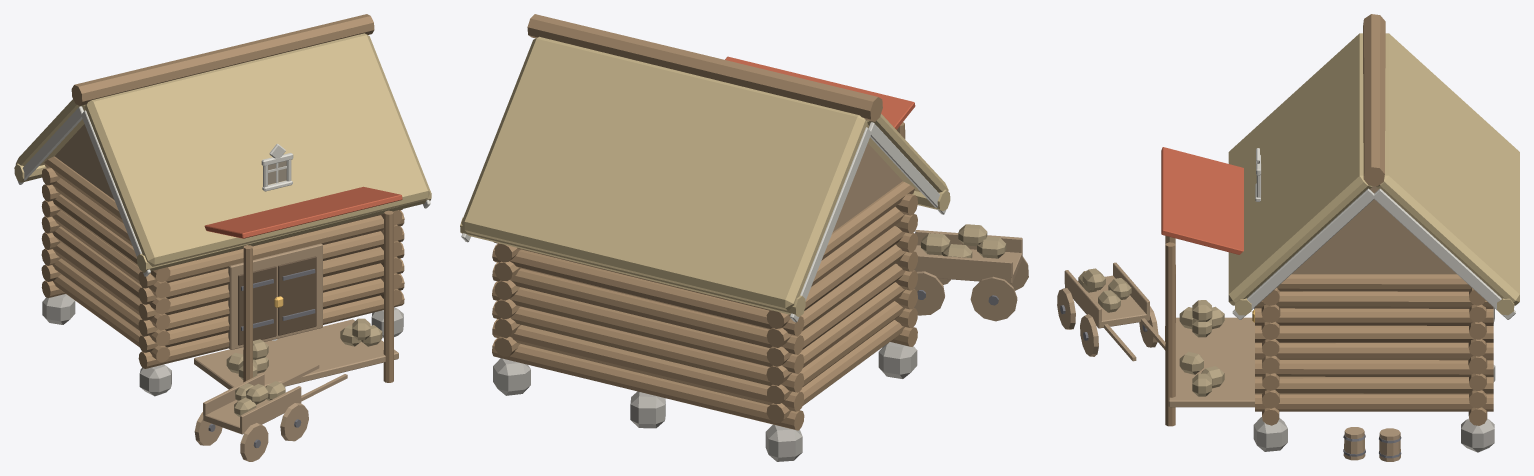
File: bld_ambar.glb
The picture shows the model from 3 angles, left to right: view 1: azimuth 30°, elevation 25°; view 2: azimuth 150°, elevation 25°; view 3: azimuth 270°, elevation 25°; orthographic projection. The views are drawn at different scales.
Visible parts, largest first — view 1: ambar; view 2: ambar; view 3: ambar.
Boxes of the visible parts, <box> form: ambar: <box>14,14,431,461</box>; ambar: <box>460,14,1028,461</box>; ambar: <box>1057,14,1519,461</box>.
Size of the model in its own units: 1.84 by 1.66 by 2.35.
